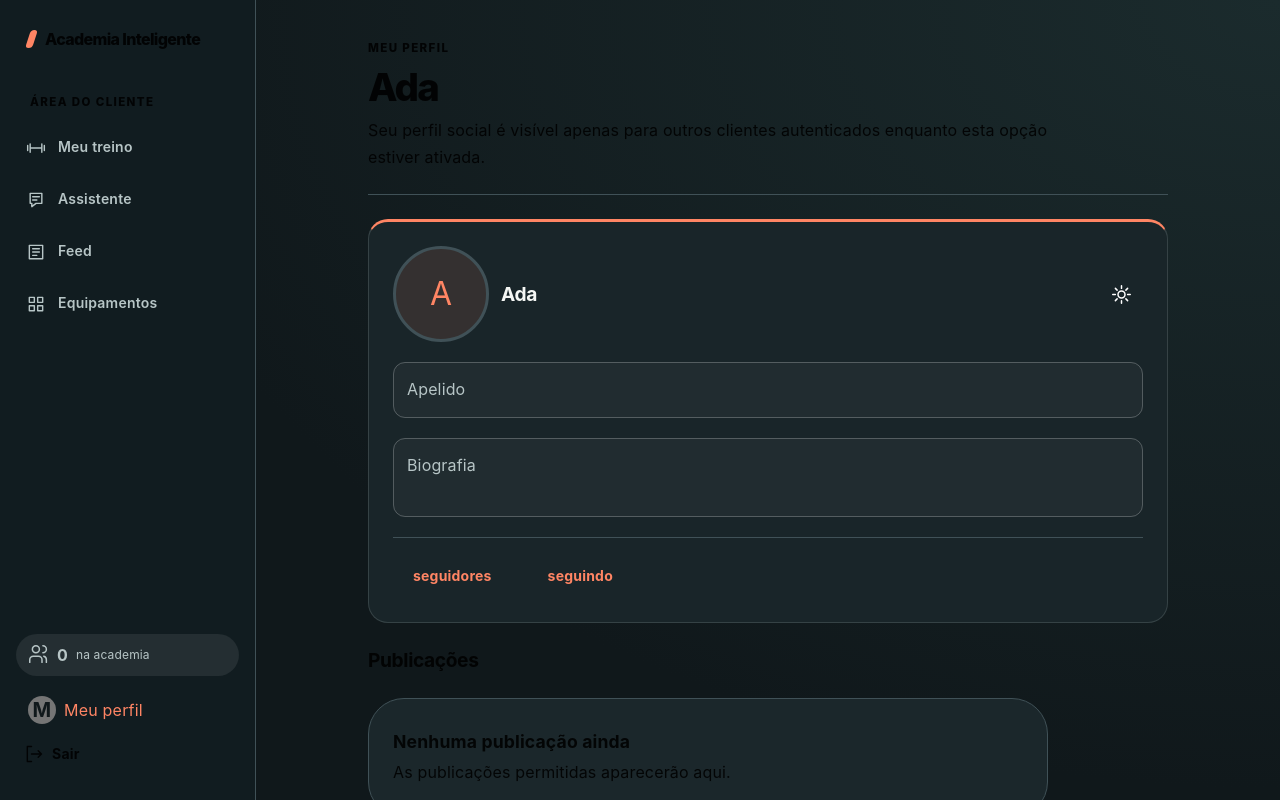
Test: failed presence updates keep the saved preference and show an error in settings
What coordinates should you click on to do the following:
click the button named "Configurações do perfil"
I would click on:
 (1121, 294)
Its box is [1099,272,1143,316].
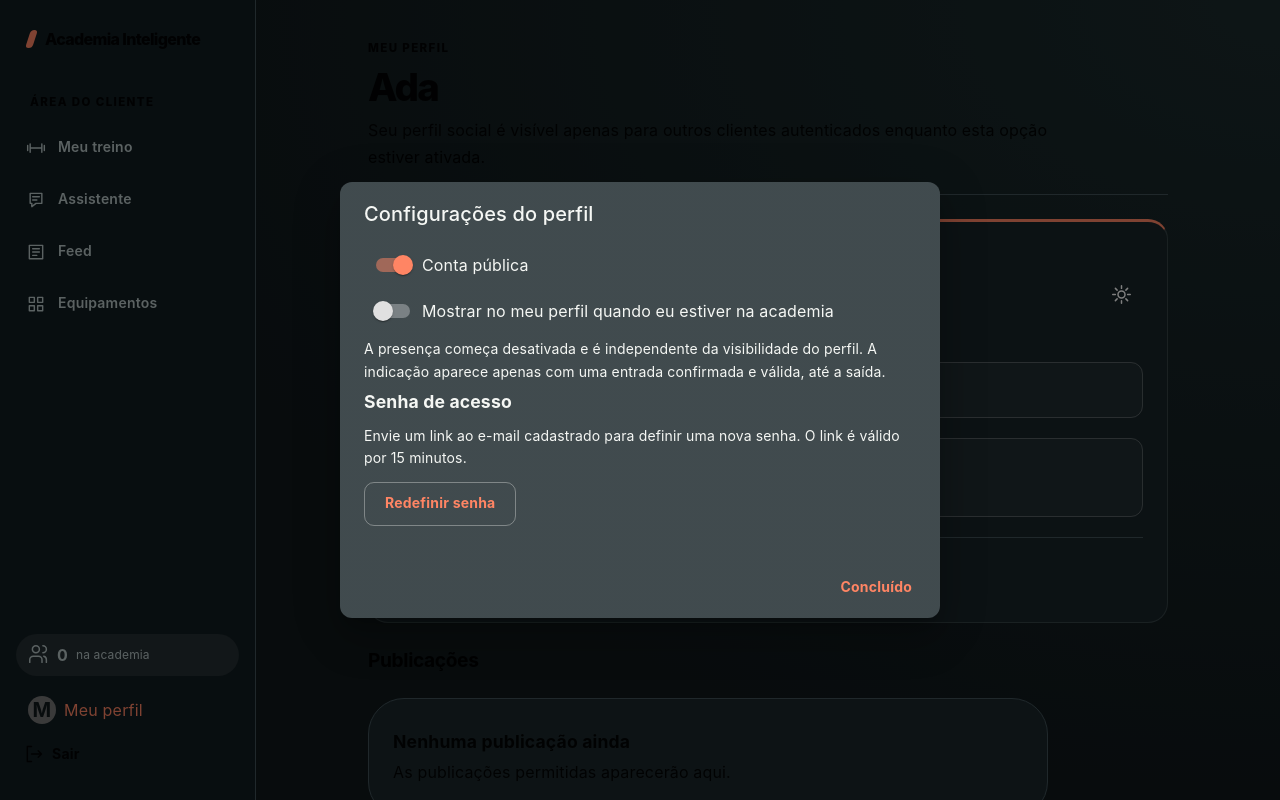
What coordinates should you click on to do the following:
click the switch labelled "Mostrar no meu perfil quando eu estiver na academia"
I would click on:
 (603, 311)
Its box is [373,301,834,321].
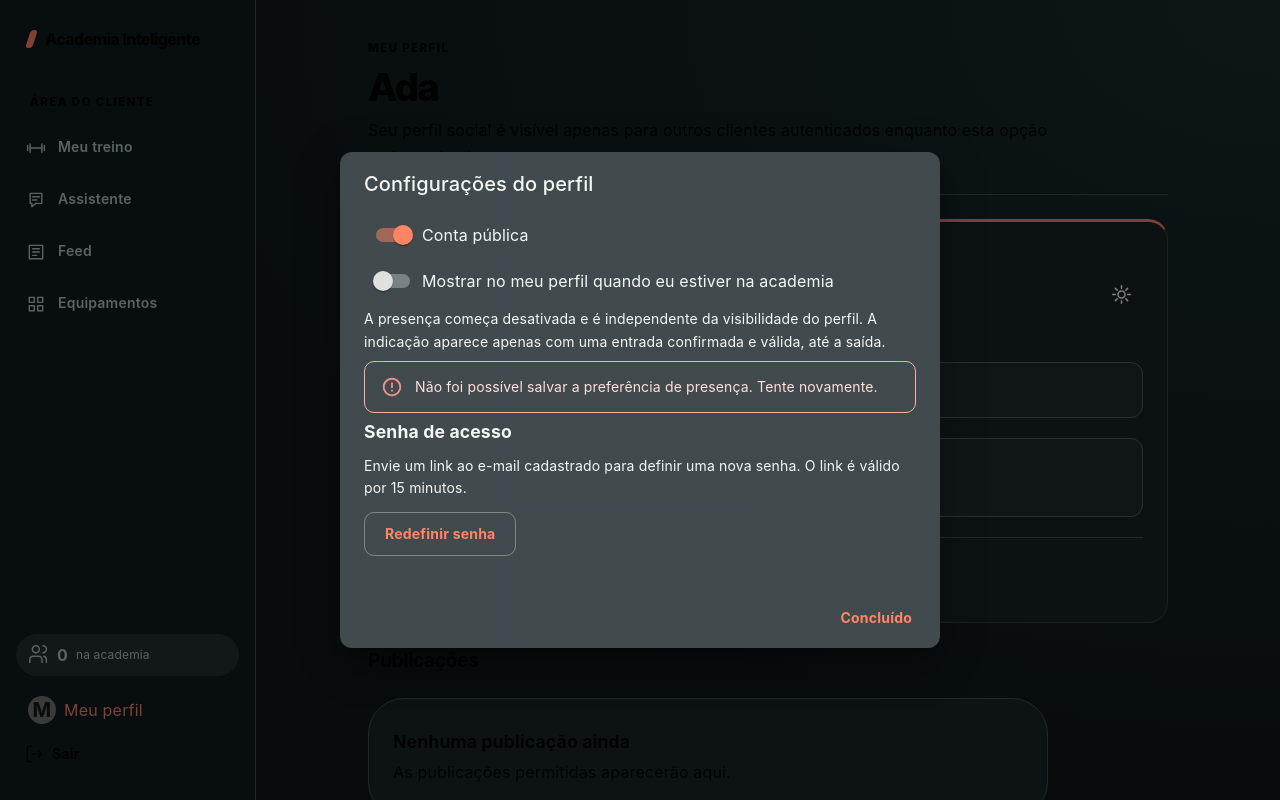
expect the switch labelled "Mostrar no meu perfil quando eu estiver na academia" is not checked: met, box [373,271,834,291]
expect the switch labelled "Mostrar no meu perfil quando eu estiver na academia" is enabled: met, box [373,271,834,291]
expect the text "Não foi possível salvar a preferência de presença. Tente novamente." is shown: met, box [415,378,878,395]
